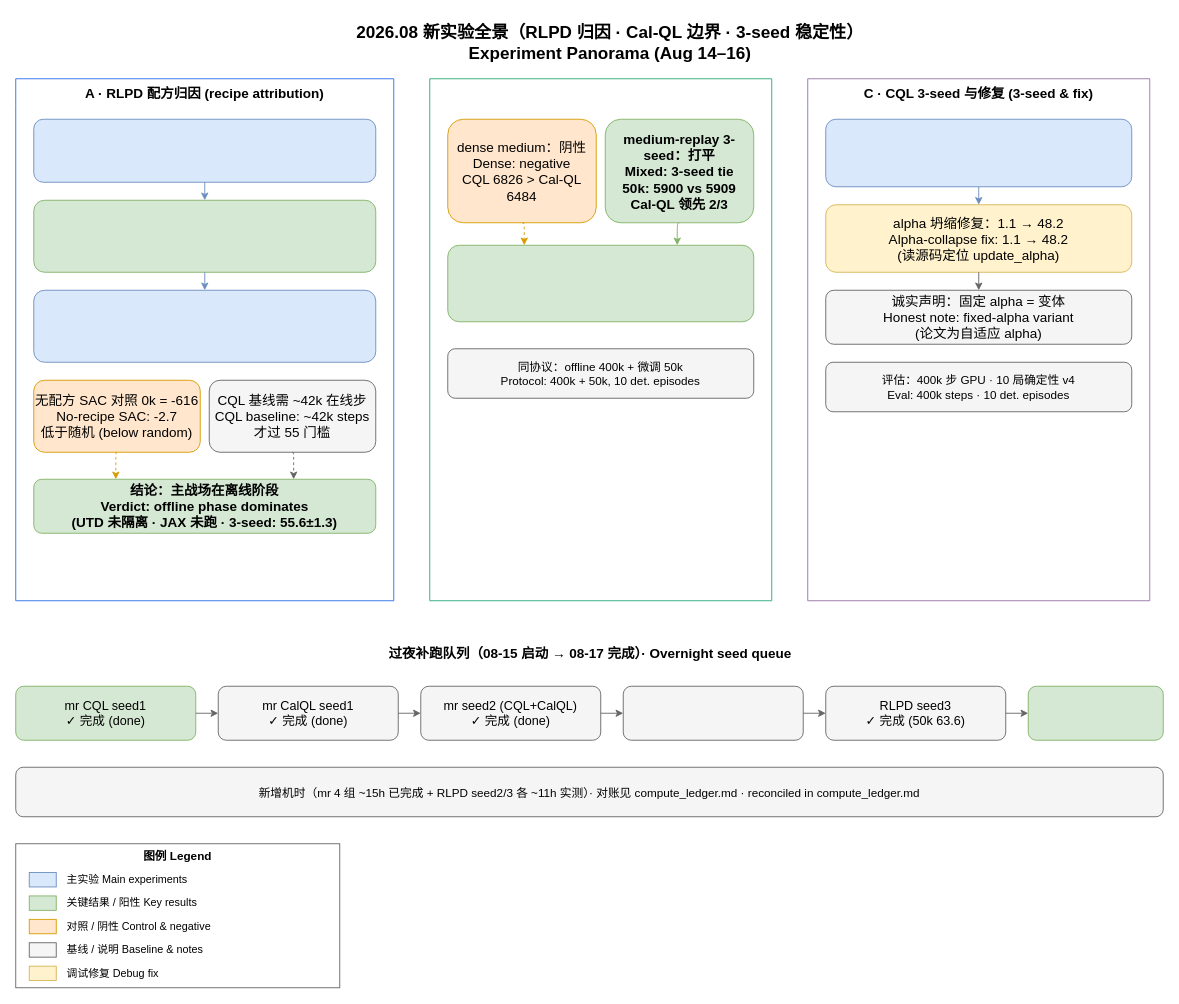
This 1179x1004 diagram has some shape labels left out. The box of each missing label's shape, as (x1, y1, x2, y2) in pixels:
0 在线步 = 6713 raw = 56.3 归一化 0 online steps: 56.3 norm ≥55 门槛（无需在线步）: (33, 199, 376, 272)
5k 首评 6822（98% 来自离线） 5k first eval: 6822 (98% offline) → 50k 终值 7691 = 64.2 归一化: (33, 289, 376, 362)
B · Cal-QL 边界验证 (boundary): (429, 78, 772, 601)
CQL 3-seed：48.35 / 48.16 / 47.95 3 seeds → 48.2±0.2（训练极稳定）: (825, 118, 1132, 187)
RLPD seed2 ✓ 完成 (50k 68.5): (622, 685, 803, 740)
全部完成 (all done): (1027, 685, 1163, 740)
离线预训练 300k 步 Offline pretrain 300k steps (10 critics + LayerNorm + UTD=10): (33, 118, 376, 182)
结论：校准优势未显示增量 Verdict: no detectable gain (dense 阴性 · mr 打平 · 稀疏未测): (447, 244, 754, 322)
